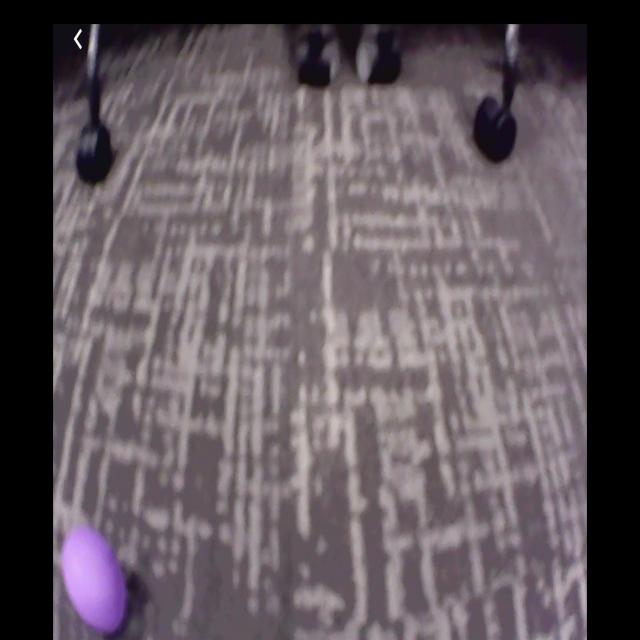ball: (63, 523, 128, 636)
